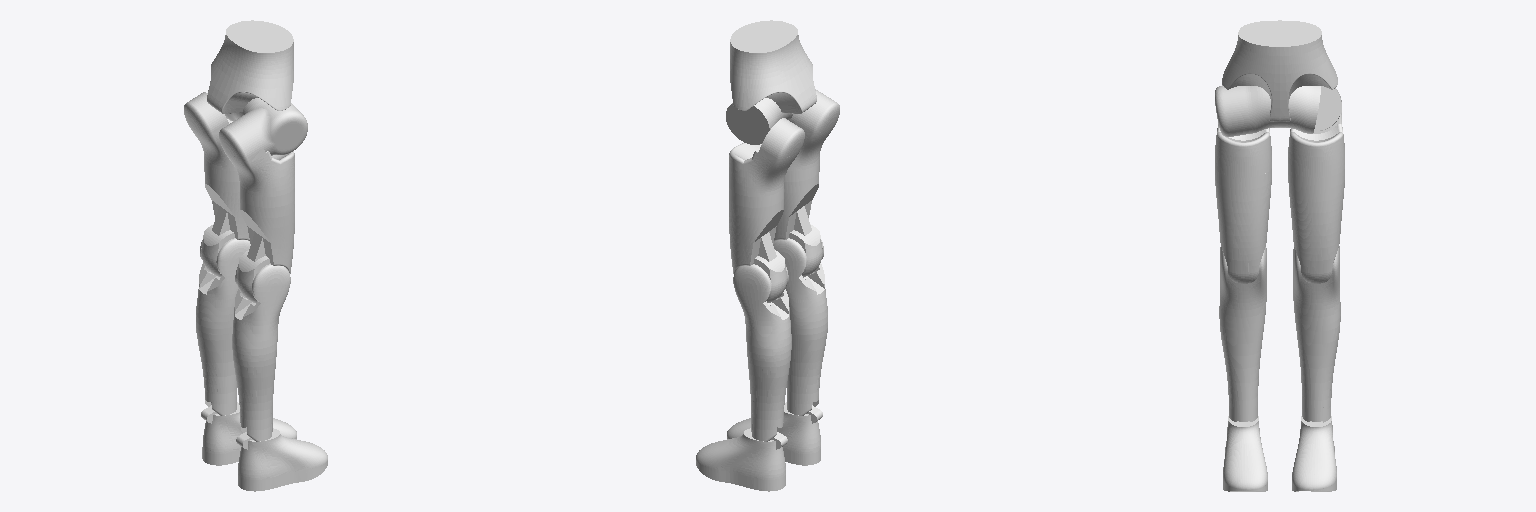
The robot description file, URDF, robot "lite_biped":
<?xml version='1.0' encoding='utf-8'?>
<robot name="lite_biped">
  <!-- GENERATED by robot_assets from Onshape CAD. Do not edit by hand. Regenerate: robot-assets-generate lite_biped -->
  <link name="pelvis">
    <inertial>
      <origin xyz="0.0137049 6.97587e-07 0.0692011" rpy="0 0 0" />
      <mass value="2.1" />
      <inertia ixx="0.00987937" ixy="3.9803e-08" ixz="-0.000115563" iyy="0.00823366" iyz="-5.1965e-08" izz="0.00638151" />
    </inertial>
    <!-- Part pelvis_parts -->
    <visual>
      <origin xyz="0.0137049 6.97587e-07 0.0692011" rpy="0 -0 0" />
      <geometry>
        <mesh filename="../meshes/visual/pelvis_visual.stl" />
      </geometry>
      <material name="pelvis_parts_material">
        <color rgba="0.933333 0.933333 0.933333 1" />
      </material>
    </visual>
  </link>
  <!-- Frame imu (dummy link + fixed joint) -->
  <link name="imu">
    <origin xyz="0 0 0" rpy="0 -0 0" />
    <inertial>
      <origin xyz="0 0 0" rpy="0 0 0" />
      <mass value="1e-9" />
      <inertia ixx="0" ixy="0" ixz="0" iyy="0" iyz="0" izz="0" />
    </inertial>
  </link>
  <joint name="imu_frame" type="fixed">
    <origin xyz="0 0 0.08" rpy="0 -0 0" />
    <parent link="pelvis" />
    <child link="imu" />
    <axis xyz="0 0 0" />
  </joint>
  <!-- Link left_hip_pitch -->
  <link name="left_hip_pitch">
    <inertial>
      <origin xyz="-0.0114774 0.00418673 0.0187959" rpy="0 0 0" />
      <mass value="0.18" />
      <inertia ixx="0.000189549" ixy="1.56103e-05" ixz="-3.45388e-05" iyy="0.000226363" iyz="1.30141e-05" izz="0.000286537" />
    </inertial>
    <!-- Part left_hip_pitch_parts -->
    <visual>
      <origin xyz="-0.0114774 0.00418673 0.0187959" rpy="1.74533 0 -0" />
      <geometry>
        <mesh filename="../meshes/visual/left_hip_pitch_visual.stl" />
      </geometry>
      <material name="left_hip_pitch_parts_material">
        <color rgba="0.933333 0.933333 0.933333 1" />
      </material>
    </visual>
  </link>
  <!-- Link left_hip_roll -->
  <link name="left_hip_roll">
    <inertial>
      <origin xyz="-4.8952e-08 0.0525082 -0.0652484" rpy="0 0 0" />
      <mass value="0.93" />
      <inertia ixx="0.00263146" ixy="-5.134e-09" ixz="3.451e-09" iyy="0.00142387" iyz="-0.000651416" izz="0.00255491" />
    </inertial>
    <!-- Part left_hip_roll_parts -->
    <collision>
      <origin xyz="0 0.181098 -0.0871979" rpy="1.22173 -0 0" />
      <geometry>
        <cylinder length="0.15" radius="0.05" />
      </geometry>
    </collision>
    <visual>
      <origin xyz="-4.8952e-08 0.0525082 -0.0652484" rpy="0 -1.22173 1.5708" />
      <geometry>
        <mesh filename="../meshes/visual/left_hip_roll_visual.stl" />
      </geometry>
      <material name="left_hip_roll_parts_material">
        <color rgba="0.933333 0.933333 0.933333 1" />
      </material>
    </visual>
  </link>
  <!-- Link left_hip_yaw -->
  <link name="left_hip_yaw">
    <inertial>
      <origin xyz="0.00130442 -2.2783e-05 -0.237299" rpy="0 0 0" />
      <mass value="1.54" />
      <inertia ixx="0.00856423" ixy="8.05553e-07" ixz="-0.000337563" iyy="0.00874707" iyz="1.62929e-07" izz="0.00192866" />
    </inertial>
    <!-- Part left_hip_yaw_parts -->
    <visual>
      <origin xyz="0.00130442 -2.2783e-05 -0.237299" rpy="-0 0 -0" />
      <geometry>
        <mesh filename="../meshes/visual/left_hip_yaw_visual.stl" />
      </geometry>
      <material name="left_hip_yaw_parts_material">
        <color rgba="0.933333 0.933333 0.933333 1" />
      </material>
    </visual>
  </link>
  <!-- Link left_knee_pitch -->
  <link name="left_knee_pitch">
    <inertial>
      <origin xyz="-0.00486713 0.0372163 -0.000224083" rpy="0 0 0" />
      <mass value="0.23" />
      <inertia ixx="0.00048246" ixy="3.51526e-05" ixz="-1.20098e-07" iyy="0.000330466" iyz="5.6617e-07" izz="0.00037756" />
    </inertial>
    <!-- Part left_knee_pitch_parts -->
    <collision>
      <origin xyz="-0.015 0.19 0" rpy="1.5708 1.5708 0" />
      <geometry>
        <cylinder length="0.12" radius="0.045" />
      </geometry>
    </collision>
    <visual>
      <origin xyz="-0.00486713 0.0372163 -0.000224083" rpy="1.5708 0 0" />
      <geometry>
        <mesh filename="../meshes/visual/left_knee_pitch_visual.stl" />
      </geometry>
      <material name="left_knee_pitch_parts_material">
        <color rgba="0.933333 0.933333 0.933333 1" />
      </material>
    </visual>
  </link>
  <!-- Link left_ankle_yaw -->
  <link name="left_ankle_yaw">
    <inertial>
      <origin xyz="-0.00304992 0.00150525 -0.18535" rpy="0 0 0" />
      <mass value="1.03" />
      <inertia ixx="0.00548966" ixy="2.18778e-06" ixz="0.000114943" iyy="0.00552969" iyz="-1.87643e-05" izz="0.000829513" />
    </inertial>
    <!-- Part left_ankle_yaw_parts -->
    <visual>
      <origin xyz="-0.00304992 0.00150525 -0.18535" rpy="-0 0 -0" />
      <geometry>
        <mesh filename="../meshes/visual/left_ankle_yaw_visual.stl" />
      </geometry>
      <material name="left_ankle_yaw_parts_material">
        <color rgba="0.933333 0.933333 0.933333 1" />
      </material>
    </visual>
  </link>
  <!-- Link left_ankle_pitch -->
  <link name="left_ankle_pitch">
    <inertial>
      <origin xyz="-0.00384209 0.0297371 3.1356e-08" rpy="0 0 0" />
      <mass value="0.34" />
      <inertia ixx="0.000180143" ixy="-3.10163e-05" ixz="-7.8e-11" iyy="0.00014325" iyz="2.66e-10" izz="0.000245142" />
    </inertial>
    <!-- Part left_ankle_pitch_parts -->
    <visual>
      <origin xyz="-0.00384209 0.0297371 3.1356e-08" rpy="1.5708 -0 -0" />
      <geometry>
        <mesh filename="../meshes/visual/left_ankle_pitch_visual.stl" />
      </geometry>
      <material name="left_ankle_pitch_parts_material">
        <color rgba="0.933333 0.933333 0.933333 1" />
      </material>
    </visual>
  </link>
  <!-- Link left_foot -->
  <link name="left_foot">
    <inertial>
      <origin xyz="0.00124938 0.0227876 0.0398042" rpy="0 0 0" />
      <mass value="0.44" />
      <inertia ixx="0.00133847" ixy="-3.31857e-06" ixz="-4.29633e-05" iyy="0.00119465" iyz="-0.000154848" izz="0.000481763" />
    </inertial>
    <!-- Part left_foot_parts -->
    <collision>
      <origin xyz="0 0.05 0.015" rpy="1.5708 0 0" />
      <geometry>
        <box size="0.065 0.12 0.03" />
      </geometry>
    </collision>
    <collision>
      <origin xyz="0 0.04 0.11" rpy="1.91986 0 0" />
      <geometry>
        <box size="0.07 0.05 0.03" />
      </geometry>
    </collision>
    <visual>
      <origin xyz="0.00124938 0.0227876 0.0398042" rpy="1.5708 -1.5708 0" />
      <geometry>
        <mesh filename="../meshes/visual/left_foot_visual.stl" />
      </geometry>
      <material name="left_foot_parts_material">
        <color rgba="0.933333 0.933333 0.933333 1" />
      </material>
    </visual>
  </link>
  <!-- Joint from left_ankle_pitch to left_foot -->
  <joint name="left_ankle_roll" type="revolute">
    <origin xyz="-0 0.04 0" rpy="0 1.5708 0" />
    <parent link="left_ankle_pitch" />
    <child link="left_foot" />
    <axis xyz="0 0 1" />
    <limit effort="5.5" velocity="100" lower="-0.349066" upper="0.349066" />
    <joint_properties friction="0.1" />
  </joint>
  <!-- Joint from left_ankle_yaw to left_ankle_pitch -->
  <joint name="left_ankle_pitch" type="revolute">
    <origin xyz="0.01 -0 -0.34" rpy="-1.5708 0 -0" />
    <parent link="left_ankle_yaw" />
    <child link="left_ankle_pitch" />
    <axis xyz="0 0 1" />
    <limit effort="14.0" velocity="100" lower="-0.523599" upper="0.872665" />
    <joint_properties friction="0.1" />
  </joint>
  <!-- Joint from left_knee_pitch to left_ankle_yaw -->
  <joint name="left_ankle_yaw" type="revolute">
    <origin xyz="-0.015 0 0" rpy="1.5708 0 -0" />
    <parent link="left_knee_pitch" />
    <child link="left_ankle_yaw" />
    <axis xyz="0 0 1" />
    <limit effort="14.0" velocity="100" lower="-1.5708" upper="1.5708" />
    <joint_properties friction="0.1" />
  </joint>
  <!-- Joint from left_hip_yaw to left_knee_pitch -->
  <joint name="left_knee_pitch" type="revolute">
    <origin xyz="-0.01 0 -0.33" rpy="-1.5708 0 0" />
    <parent link="left_hip_yaw" />
    <child link="left_knee_pitch" />
    <axis xyz="0 0 1" />
    <limit effort="36.0" velocity="100" lower="0" upper="2.35619" />
    <joint_properties friction="0.1" />
  </joint>
  <!-- Joint from left_hip_roll to left_hip_yaw -->
  <joint name="left_hip_yaw" type="revolute">
    <origin xyz="0 -0.0068404 -0.0187939" rpy="0 -1.22173 1.5708" />
    <parent link="left_hip_roll" />
    <child link="left_hip_yaw" />
    <axis xyz="0 0 1" />
    <limit effort="17.0" velocity="100" lower="-1.5708" upper="1.5708" />
    <joint_properties friction="0.1" />
  </joint>
  <!-- Joint from left_hip_pitch to left_hip_roll -->
  <joint name="left_hip_roll" type="revolute">
    <origin xyz="-0 0 -0" rpy="1.91986 1.39626 1.5708" />
    <parent link="left_hip_pitch" />
    <child link="left_hip_roll" />
    <axis xyz="0 0 1" />
    <limit effort="36.0" velocity="100" lower="-0.349066" upper="1.5708" />
    <joint_properties friction="0.1" />
  </joint>
  <!-- Joint from pelvis to left_hip_pitch -->
  <joint name="left_hip_pitch" type="revolute">
    <origin xyz="0.02 0.07 0" rpy="-1.74533 0 0" />
    <parent link="pelvis" />
    <child link="left_hip_pitch" />
    <axis xyz="0 0 1" />
    <limit effort="36.0" velocity="100" lower="-2.35619" upper="0.785398" />
    <joint_properties friction="0.1" />
  </joint>
  <!-- Link right_hip_pitch -->
  <link name="right_hip_pitch">
    <inertial>
      <origin xyz="-0.0114771 0.00418737 -0.0187964" rpy="0 0 0" />
      <mass value="0.18" />
      <inertia ixx="0.000189546" ixy="1.56176e-05" ixz="3.45408e-05" iyy="0.00022637" iyz="-1.30122e-05" izz="0.000286535" />
    </inertial>
    <!-- Part right_hip_pitch_parts -->
    <visual>
      <origin xyz="-0.0114771 0.00418737 -0.0187964" rpy="1.39626 0 -0" />
      <geometry>
        <mesh filename="../meshes/visual/right_hip_pitch_visual.stl" />
      </geometry>
      <material name="right_hip_pitch_parts_material">
        <color rgba="0.933333 0.933333 0.933333 1" />
      </material>
    </visual>
  </link>
  <!-- Link right_hip_roll -->
  <link name="right_hip_roll">
    <inertial>
      <origin xyz="-1.13349e-07 0.0525083 -0.0652488" rpy="0 0 0" />
      <mass value="0.93" />
      <inertia ixx="0.00263147" ixy="2.71e-10" ixz="6.079e-09" iyy="0.00142387" iyz="-0.000651423" izz="0.00255493" />
    </inertial>
    <!-- Part right_hip_roll_parts -->
    <collision>
      <origin xyz="-0 0.181098 -0.0871979" rpy="1.22173 0 0" />
      <geometry>
        <cylinder length="0.15" radius="0.05" />
      </geometry>
    </collision>
    <visual>
      <origin xyz="-1.13349e-07 0.0525083 -0.0652488" rpy="0 -1.22173 1.5708" />
      <geometry>
        <mesh filename="../meshes/visual/right_hip_roll_visual.stl" />
      </geometry>
      <material name="right_hip_roll_parts_material">
        <color rgba="0.933333 0.933333 0.933333 1" />
      </material>
    </visual>
  </link>
  <!-- Link right_hip_yaw -->
  <link name="right_hip_yaw">
    <inertial>
      <origin xyz="0.00130421 2.35733e-05 -0.237299" rpy="0 0 0" />
      <mass value="1.54" />
      <inertia ixx="0.00856421" ixy="-7.98006e-07" ixz="-0.000337552" iyy="0.00874705" iyz="-2.23692e-07" izz="0.00192867" />
    </inertial>
    <!-- Part right_hip_yaw_parts -->
    <visual>
      <origin xyz="0.00130421 2.35733e-05 -0.237299" rpy="0 0 0" />
      <geometry>
        <mesh filename="../meshes/visual/right_hip_yaw_visual.stl" />
      </geometry>
      <material name="right_hip_yaw_parts_material">
        <color rgba="0.933333 0.933333 0.933333 1" />
      </material>
    </visual>
  </link>
  <!-- Link right_knee_pitch -->
  <link name="right_knee_pitch">
    <inertial>
      <origin xyz="-0.0048642 0.0372186 0.000224747" rpy="0 0 0" />
      <mass value="0.23" />
      <inertia ixx="0.000482479" ixy="3.5171e-05" ixz="1.13103e-07" iyy="0.000330463" iyz="-5.54061e-07" izz="0.000377561" />
    </inertial>
    <!-- Part right_knee_pitch_parts -->
    <collision>
      <origin xyz="-0.015 0.19 0" rpy="1.5708 1.5708 0" />
      <geometry>
        <cylinder length="0.12" radius="0.045" />
      </geometry>
    </collision>
    <visual>
      <origin xyz="-0.0048642 0.0372186 0.000224747" rpy="1.5708 -0 0" />
      <geometry>
        <mesh filename="../meshes/visual/right_knee_pitch_visual.stl" />
      </geometry>
      <material name="right_knee_pitch_parts_material">
        <color rgba="0.933333 0.933333 0.933333 1" />
      </material>
    </visual>
  </link>
  <!-- Link right_ankle_yaw -->
  <link name="right_ankle_yaw">
    <inertial>
      <origin xyz="-0.00304908 -0.0015054 -0.185348" rpy="0 0 0" />
      <mass value="1.03" />
      <inertia ixx="0.00548969" ixy="-2.19478e-06" ixz="0.000114953" iyy="0.00552968" iyz="1.87697e-05" izz="0.00082951" />
    </inertial>
    <!-- Part right_ankle_yaw_parts -->
    <visual>
      <origin xyz="-0.00304908 -0.0015054 -0.185348" rpy="0 0 0" />
      <geometry>
        <mesh filename="../meshes/visual/right_ankle_yaw_visual.stl" />
      </geometry>
      <material name="right_ankle_yaw_parts_material">
        <color rgba="0.933333 0.933333 0.933333 1" />
      </material>
    </visual>
  </link>
  <!-- Link right_ankle_pitch -->
  <link name="right_ankle_pitch">
    <inertial>
      <origin xyz="-0.00384209 0.0297371 3.1396e-08" rpy="0 0 0" />
      <mass value="0.34" />
      <inertia ixx="0.000180143" ixy="-3.10163e-05" ixz="-7.8e-11" iyy="0.00014325" iyz="2.66e-10" izz="0.000245142" />
    </inertial>
    <!-- Part right_ankle_pitch_parts -->
    <visual>
      <origin xyz="-0.00384209 0.0297371 3.1396e-08" rpy="1.5708 -0 0" />
      <geometry>
        <mesh filename="../meshes/visual/right_ankle_pitch_visual.stl" />
      </geometry>
      <material name="right_ankle_pitch_parts_material">
        <color rgba="0.933333 0.933333 0.933333 1" />
      </material>
    </visual>
  </link>
  <!-- Link right_foot -->
  <link name="right_foot">
    <inertial>
      <origin xyz="-0.0012494 0.0227876 0.039804" rpy="0 0 0" />
      <mass value="0.44" />
      <inertia ixx="0.00133847" ixy="3.3182e-06" ixz="4.29635e-05" iyy="0.00119465" iyz="-0.000154847" izz="0.000481763" />
    </inertial>
    <!-- Part right_foot_parts -->
    <collision>
      <origin xyz="0 0.05 0.015" rpy="1.5708 0 -0" />
      <geometry>
        <box size="0.065 0.12 0.03" />
      </geometry>
    </collision>
    <collision>
      <origin xyz="0 0.04 0.11" rpy="1.91986 0 -0" />
      <geometry>
        <box size="0.07 0.05 0.03" />
      </geometry>
    </collision>
    <visual>
      <origin xyz="-0.0012494 0.0227876 0.039804" rpy="1.5708 -1.5708 0" />
      <geometry>
        <mesh filename="../meshes/visual/right_foot_visual.stl" />
      </geometry>
      <material name="right_foot_parts_material">
        <color rgba="0.933333 0.933333 0.933333 1" />
      </material>
    </visual>
  </link>
  <!-- Joint from right_ankle_pitch to right_foot -->
  <joint name="right_ankle_roll" type="revolute">
    <origin xyz="-0 0.04 -0" rpy="-0 1.5708 0" />
    <parent link="right_ankle_pitch" />
    <child link="right_foot" />
    <axis xyz="0 0 1" />
    <limit effort="5.5" velocity="100" lower="-0.349066" upper="0.349066" />
    <joint_properties friction="0.1" />
  </joint>
  <!-- Joint from right_ankle_yaw to right_ankle_pitch -->
  <joint name="right_ankle_pitch" type="revolute">
    <origin xyz="0.01 0 -0.34" rpy="-1.5708 0 0" />
    <parent link="right_ankle_yaw" />
    <child link="right_ankle_pitch" />
    <axis xyz="0 0 1" />
    <limit effort="14.0" velocity="100" lower="-0.523599" upper="0.872665" />
    <joint_properties friction="0.1" />
  </joint>
  <!-- Joint from right_knee_pitch to right_ankle_yaw -->
  <joint name="right_ankle_yaw" type="revolute">
    <origin xyz="-0.015 0 -0" rpy="1.5708 -0 -0" />
    <parent link="right_knee_pitch" />
    <child link="right_ankle_yaw" />
    <axis xyz="0 0 1" />
    <limit effort="14.0" velocity="100" lower="-1.5708" upper="1.5708" />
    <joint_properties friction="0.1" />
  </joint>
  <!-- Joint from right_hip_yaw to right_knee_pitch -->
  <joint name="right_knee_pitch" type="revolute">
    <origin xyz="-0.01 -0 -0.33" rpy="-1.5708 0 0" />
    <parent link="right_hip_yaw" />
    <child link="right_knee_pitch" />
    <axis xyz="0 0 1" />
    <limit effort="36.0" velocity="100" lower="0" upper="2.35619" />
    <joint_properties friction="0.1" />
  </joint>
  <!-- Joint from right_hip_roll to right_hip_yaw -->
  <joint name="right_hip_yaw" type="revolute">
    <origin xyz="-0 -0.0068404 -0.0187939" rpy="0 -1.22173 1.5708" />
    <parent link="right_hip_roll" />
    <child link="right_hip_yaw" />
    <axis xyz="0 0 1" />
    <limit effort="17.0" velocity="100" lower="-1.5708" upper="1.5708" />
    <joint_properties friction="0.1" />
  </joint>
  <!-- Joint from right_hip_pitch to right_hip_roll -->
  <joint name="right_hip_roll" type="revolute">
    <origin xyz="0 -0 -0" rpy="-1.22173 1.39626 -1.5708" />
    <parent link="right_hip_pitch" />
    <child link="right_hip_roll" />
    <axis xyz="0 0 1" />
    <limit effort="36.0" velocity="100" lower="-1.5708" upper="0.349066" />
    <joint_properties friction="0.1" />
  </joint>
  <!-- Joint from pelvis to right_hip_pitch -->
  <joint name="right_hip_pitch" type="revolute">
    <origin xyz="0.02 -0.07 -0" rpy="-1.39626 -0 0" />
    <parent link="pelvis" />
    <child link="right_hip_pitch" />
    <axis xyz="0 0 1" />
    <limit effort="36.0" velocity="100" lower="-2.35619" upper="0.785398" />
    <joint_properties friction="0.1" />
  </joint>
</robot>

--- Render facts (derived) ---
3 views of the same robot in one strip: view 1: azimuth 30°, elevation 25°; view 2: azimuth 150°, elevation 25°; view 3: azimuth 270°, elevation 25° (orthographic).
Model lite_biped with 16 links and 15 joints (14 revolute, 1 fixed), rooted at pelvis, posed all joints at 0.
Visible links, largest first — view 1: pelvis, right_ankle_yaw, right_hip_yaw, left_ankle_yaw, right_foot, right_hip_roll, left_hip_yaw, right_knee_pitch, right_hip_pitch, left_foot, left_hip_roll, left_knee_pitch; view 2: pelvis, left_ankle_yaw, left_hip_yaw, right_ankle_yaw, left_foot, left_hip_roll, right_hip_yaw, left_knee_pitch, right_foot, right_hip_roll, right_knee_pitch; view 3: pelvis, left_hip_yaw, right_hip_yaw, left_ankle_yaw, right_ankle_yaw, left_hip_roll, right_foot, left_foot, right_hip_roll, right_knee_pitch, left_knee_pitch, right_hip_pitch.
Link boxes in pixels (x1,y1,x2,y2): pelvis: (207, 20, 293, 121); right_ankle_yaw: (232, 319, 278, 441); right_hip_yaw: (237, 188, 294, 302); left_ankle_yaw: (196, 291, 236, 415); right_foot: (238, 428, 327, 491); right_hip_roll: (219, 118, 294, 196); left_hip_yaw: (201, 161, 249, 277); right_knee_pitch: (234, 264, 290, 325); right_hip_pitch: (240, 104, 307, 155); left_foot: (202, 402, 296, 465); left_hip_roll: (184, 92, 236, 170); left_knee_pitch: (198, 238, 250, 299); pelvis: (726, 20, 816, 144); left_ankle_yaw: (745, 319, 791, 441); left_hip_yaw: (729, 188, 786, 302); right_ankle_yaw: (787, 291, 827, 415); left_foot: (696, 428, 785, 491); left_hip_roll: (729, 118, 804, 196); right_hip_yaw: (774, 161, 822, 277); left_knee_pitch: (733, 264, 789, 325); right_foot: (727, 402, 820, 465); right_hip_roll: (787, 92, 839, 170); right_knee_pitch: (773, 238, 825, 299); pelvis: (1222, 20, 1337, 133); left_hip_yaw: (1288, 168, 1344, 283); right_hip_yaw: (1215, 168, 1271, 283); left_ankle_yaw: (1293, 295, 1340, 422); right_ankle_yaw: (1219, 295, 1266, 421); left_hip_roll: (1288, 86, 1344, 177); right_foot: (1223, 416, 1267, 491); left_foot: (1292, 416, 1336, 491); right_hip_roll: (1215, 124, 1271, 177); right_knee_pitch: (1220, 247, 1266, 302); left_knee_pitch: (1293, 246, 1339, 302); right_hip_pitch: (1215, 85, 1246, 136).
Size in the robot's own frame: 0.2335 by 0.2502 by 0.935 metres.
14 mesh visuals loaded from 15 distinct referenced files (14 binary STL); not drawn: 1 (reference not matched to a file when rendering).
